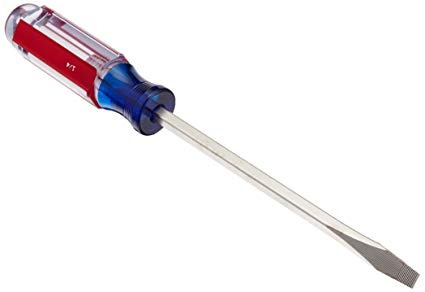screwdriver: (5, 2, 420, 289)
